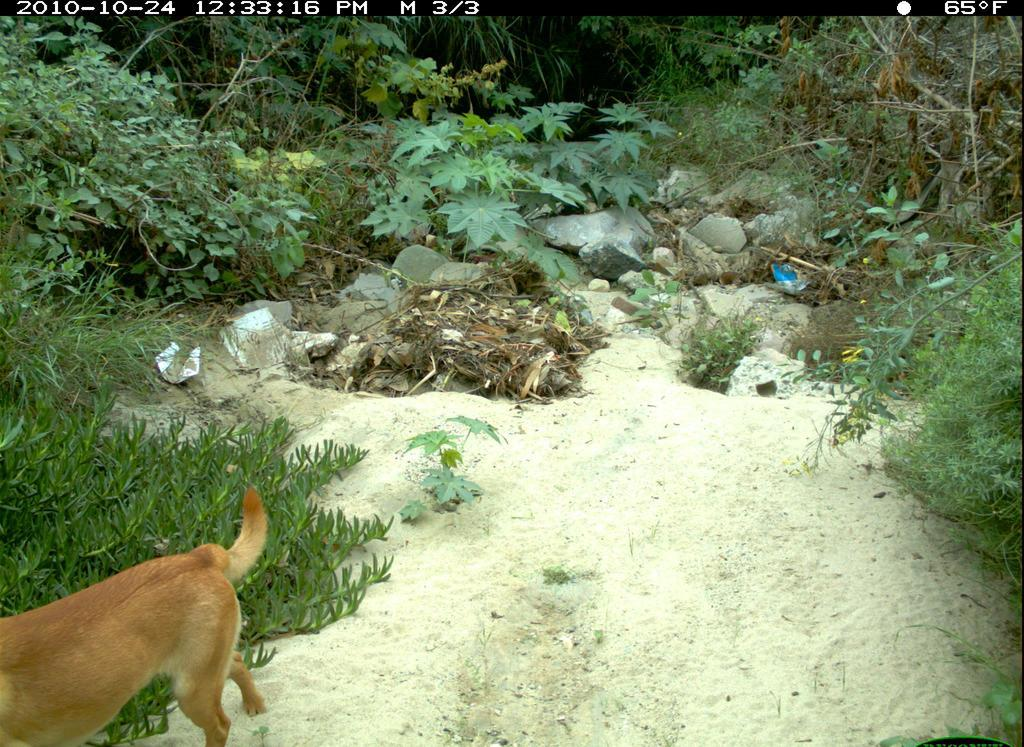dog: (9, 477, 276, 745)
